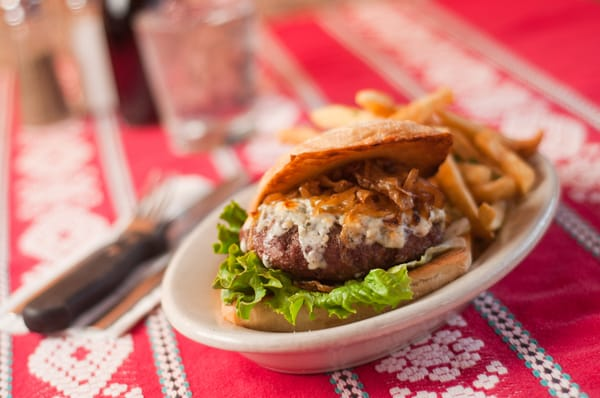sandwich: (19, 166, 258, 337)
soup: (214, 118, 471, 331)
sushi: (83, 40, 560, 374)
